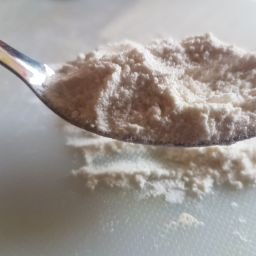Plain flour: (44, 71, 224, 205), (69, 31, 256, 144), (77, 48, 256, 127), (132, 83, 256, 197)
